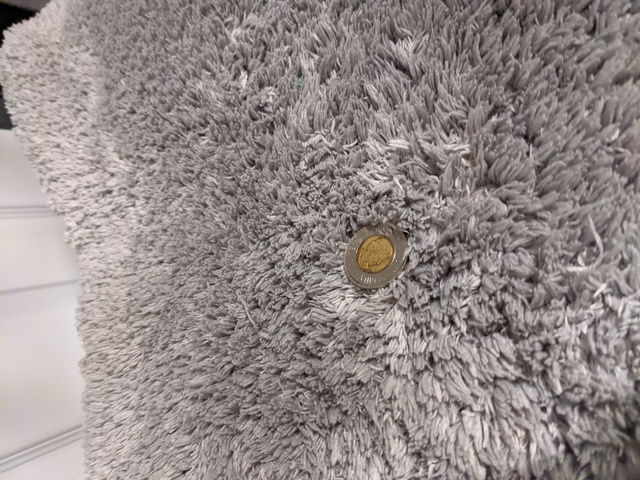twonie: (337, 213, 411, 287)
